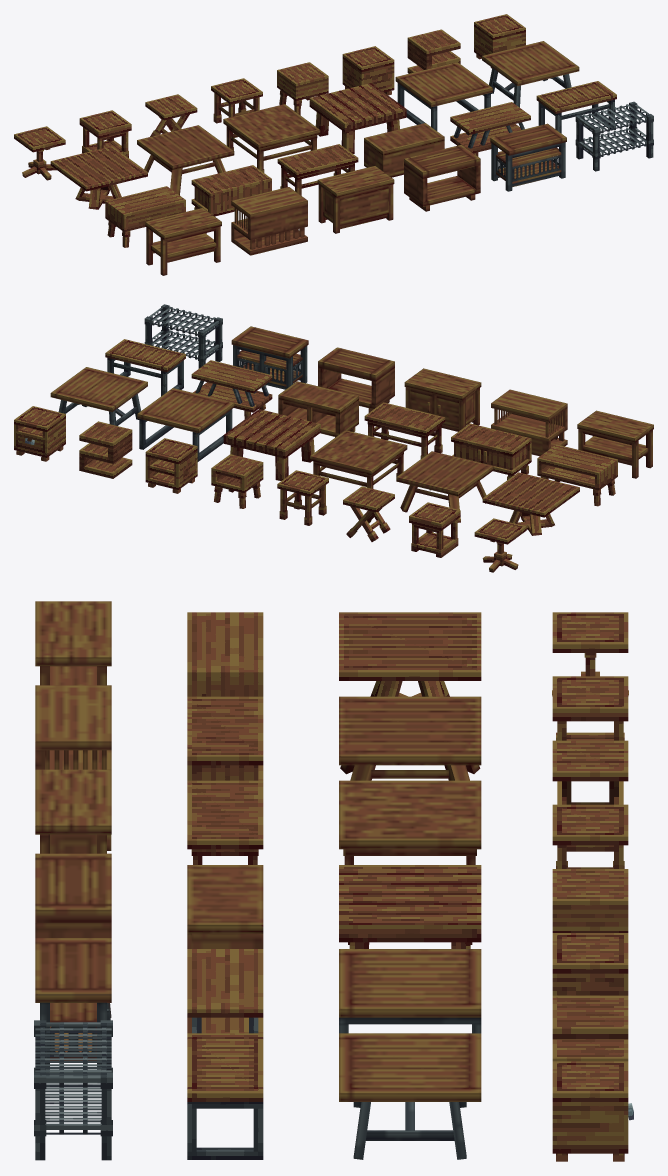
The model's file is collection2.obj.
The picture shows the model from 3 angles, top to bottom: view 1: azimuth 30°, elevation 25°; view 2: azimuth 150°, elevation 25°; view 3: azimuth 270°, elevation 25°; orthographic projection. The views are drawn at different scales.
Parts seen in each view (by area): view 1: cube; view 2: cube; view 3: cube.
Boxes of the visible parts, box(x1,y1,x2,y2) form: cube: box(14, 14, 653, 275); cube: box(14, 304, 653, 572); cube: box(34, 601, 633, 1161).
Bounding box in the file's own units: 15.01 × 1.29 × 7.9.
26 materials, 26 textured.
